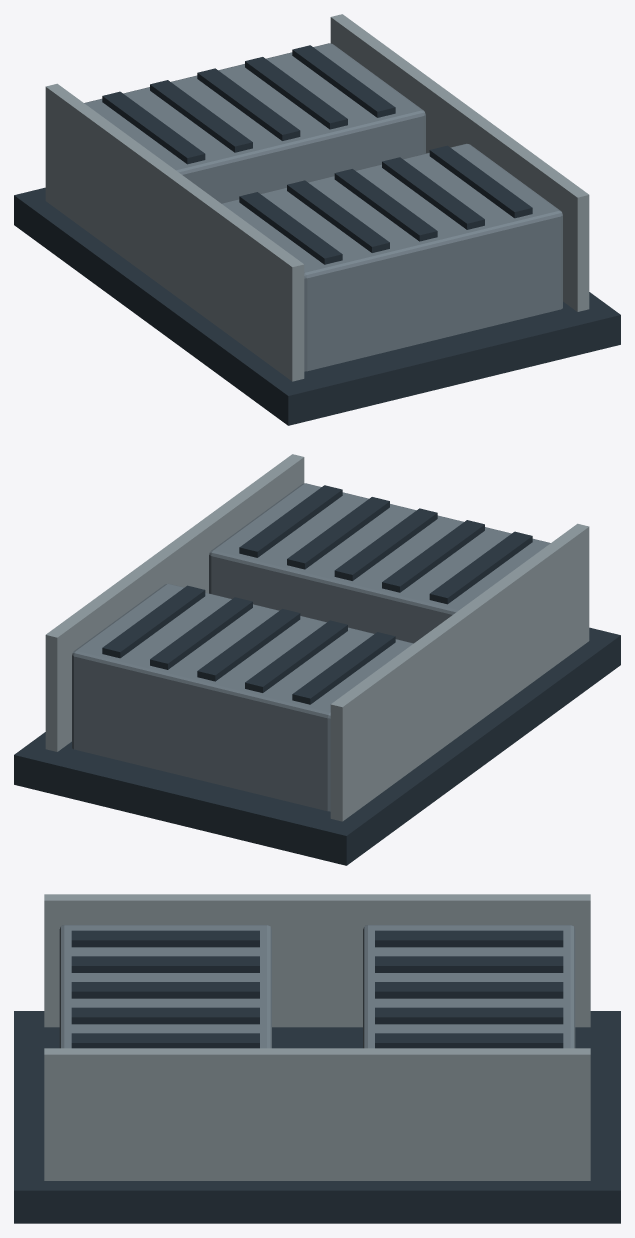
File: vrx_city_plant_a_LOD0.fbx
3 renders of one model, top to bottom at view 1: azimuth 30°, elevation 25°; view 2: azimuth 150°, elevation 25°; view 3: azimuth 270°, elevation 25°, orthographic. The views are drawn at different scales.
Parts seen in each view (by area): view 1: vrx_city_plant_a_LOD0; view 2: vrx_city_plant_a_LOD0; view 3: vrx_city_plant_a_LOD0.
Boxes of the visible parts, left/top/right/bottom form: vrx_city_plant_a_LOD0: left=14, top=14, right=620, bottom=425; vrx_city_plant_a_LOD0: left=14, top=454, right=620, bottom=865; vrx_city_plant_a_LOD0: left=14, top=894, right=620, bottom=1223.
Bounding box in the file's own units: 7 × 2.9 × 10.
